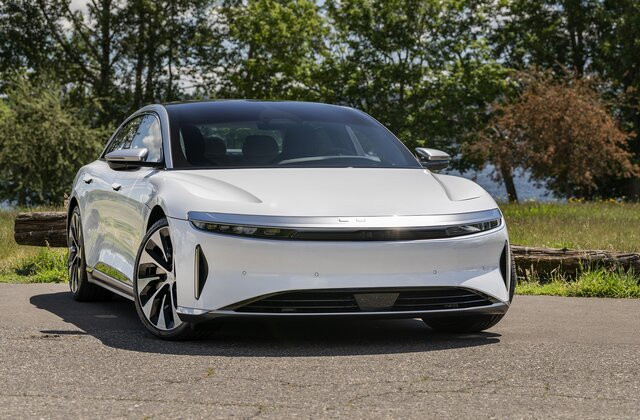car: (62, 99, 515, 343)
